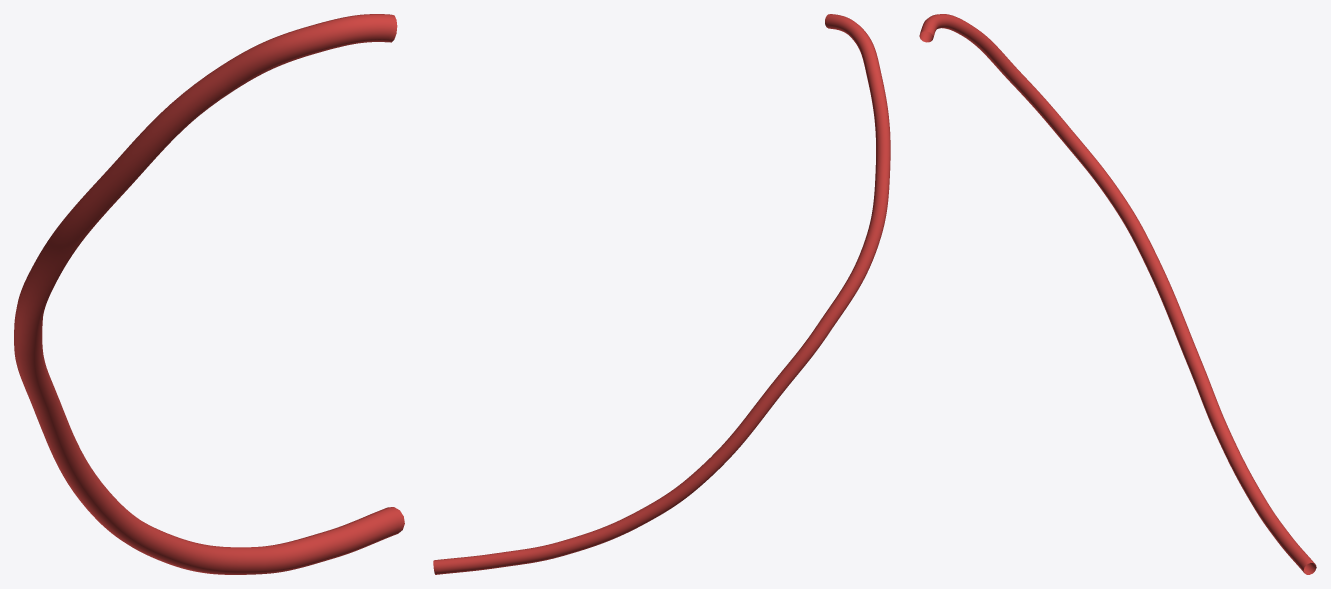
3 renders of one model, left to right at view 1: azimuth 30°, elevation 25°; view 2: azimuth 150°, elevation 25°; view 3: azimuth 270°, elevation 25°, orthographic. The views are drawn at different scales.
Parts seen in each view (by area): view 1: 右侧第1肋间后动脉; view 2: 右侧第1肋间后动脉; view 3: 右侧第1肋间后动脉.
Boxes of the visible parts, box(x1,y1,x2,y2) form: 右侧第1肋间后动脉: box(14, 14, 404, 574); 右侧第1肋间后动脉: box(433, 14, 890, 574); 右侧第1肋间后动脉: box(919, 14, 1316, 574).
Size of the model in its own units: 0.0726 by 0.1019 by 0.0809.
